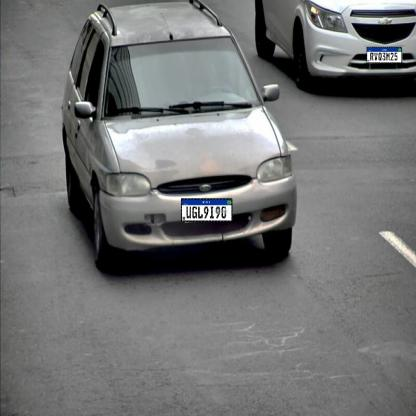PlacaM: (181, 198, 232, 222), (367, 47, 402, 63)
